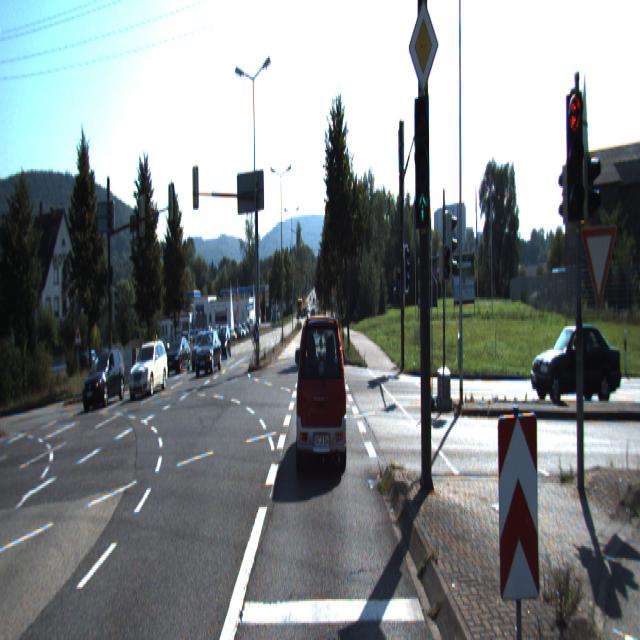Car: (530, 319, 622, 411), (295, 312, 347, 474), (82, 349, 125, 407), (129, 341, 168, 398), (193, 331, 221, 376), (167, 334, 191, 376)
